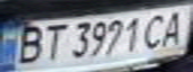1: (121, 15, 145, 54)
2: (106, 16, 127, 58)
3: (66, 19, 90, 61)
9: (87, 17, 109, 61)
A: (157, 7, 193, 47)
B: (9, 21, 48, 66)
C: (139, 11, 172, 50)
T: (36, 20, 69, 62)
